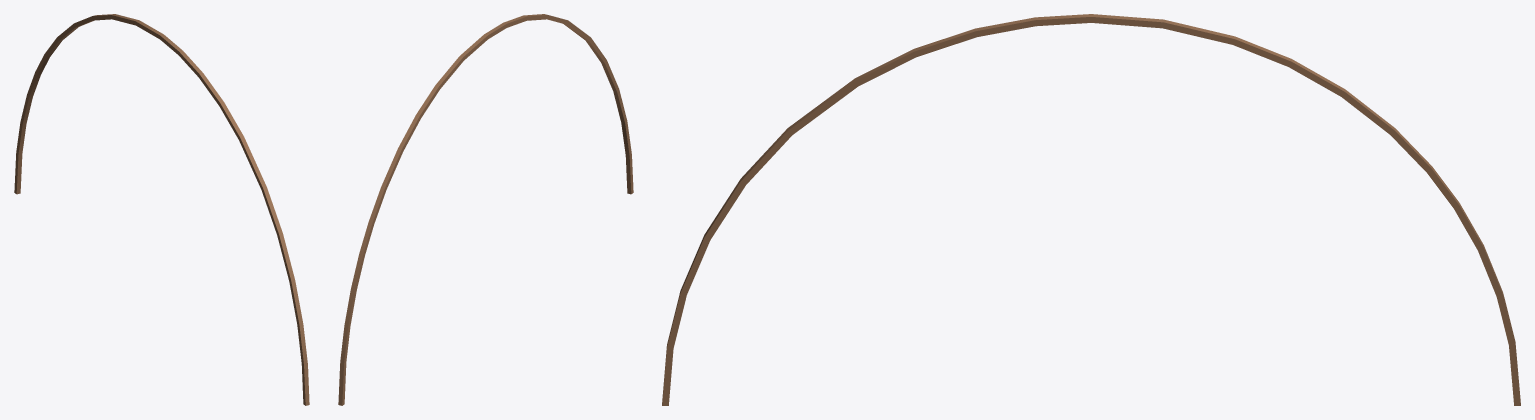
The model's file is S_Metal_Stem_011.fbx.
3 renders of one model, left to right at view 1: azimuth 30°, elevation 25°; view 2: azimuth 150°, elevation 25°; view 3: azimuth 270°, elevation 25°, orthographic. The views are drawn at different scales.
Parts seen in each view (by area): view 1: S_Metal_Stem_011; view 2: S_Metal_Stem_011; view 3: S_Metal_Stem_011.
Part boxes in pixels (x1,y1,x2,y2): S_Metal_Stem_011: (14,14,309,405); S_Metal_Stem_011: (338,14,633,405); S_Metal_Stem_011: (662,14,1520,405).
Size of the model in its own units: 3.39 by 216 by 432.
